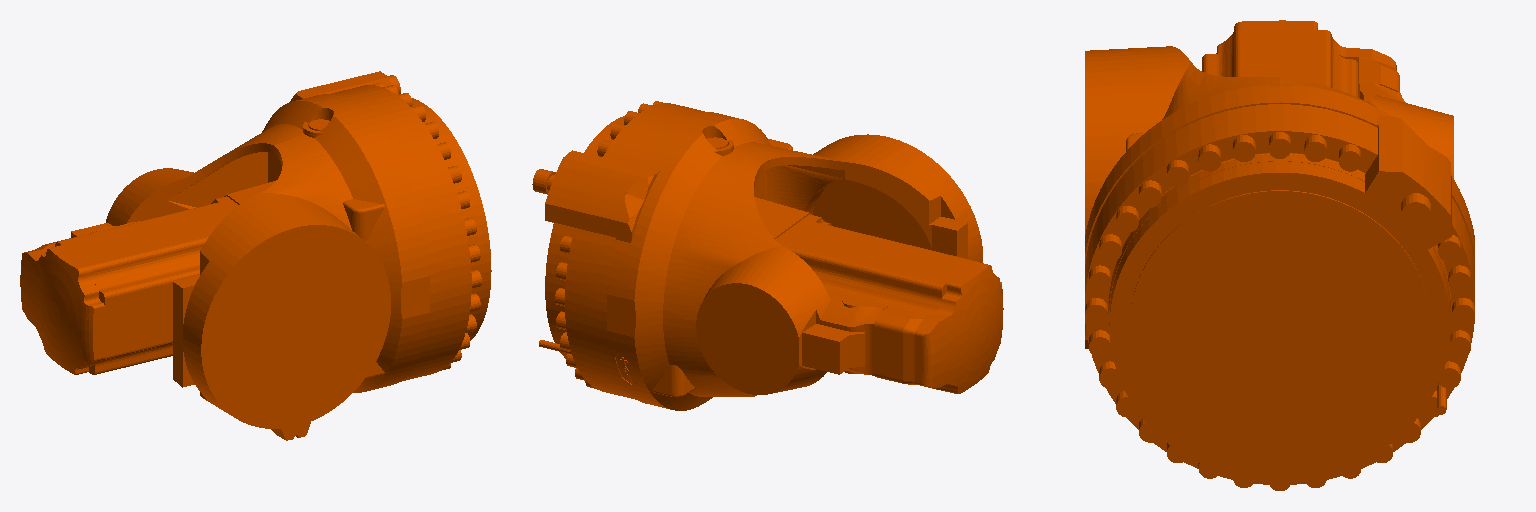
URDF robot description (IRB8700_550_420_SW6):
<?xml version="1.0" ?>
<robot name="IRB8700_550_420_SW6">

<link name="base_link">
  <inertial>
    <origin xyz="-0.08037184969585716 0.0006300808261457967 0.15332267644640482" rpy="0 0 0"/>
    <mass value="1505.6521038393914"/>
    <inertia ixx="76.523178" iyy="124.443069" izz="174.383681" ixy="0.159184" iyz="-0.066316" ixz="-5.164151"/>
  </inertial>
  <visual>
    <origin xyz="0 0 0" rpy="0 0 0"/>
    <geometry>
      <mesh filename="meshes/base_link.stl" scale="0.001 0.001 0.001"/>
    </geometry>
  </visual>
  <collision>
    <origin xyz="0 0 0" rpy="0 0 0"/>
    <geometry>
      <mesh filename="meshes/base_link.stl" scale="0.001 0.001 0.001"/>
    </geometry>
  </collision>
</link>

<link name="IRB8700_SW6_550_420_IRC5_rev00_LINK1_CAD_v1_1">
  <inertial>
    <origin xyz="0.30364505280838955 -0.0018357799370513142 0.5157165485900264" rpy="0 0 0"/>
    <mass value="1785.9186850506833"/>
    <inertia ixx="319.960777" iyy="204.24516" izz="276.794643" ixy="0.482677" iyz="6.821785" ixz="-58.562622"/>
  </inertial>
  <visual>
    <origin xyz="0.0 -0.0 -0.300337" rpy="0 0 0"/>
    <geometry>
      <mesh filename="meshes/IRB8700_SW6_550_420_IRC5_rev00_LINK1_CAD_v1_1.stl" scale="0.001 0.001 0.001"/>
    </geometry>
  </visual>
  <collision>
    <origin xyz="0.0 -0.0 -0.300337" rpy="0 0 0"/>
    <geometry>
      <mesh filename="meshes/IRB8700_SW6_550_420_IRC5_rev00_LINK1_CAD_v1_1.stl" scale="0.001 0.001 0.001"/>
    </geometry>
  </collision>
</link>

<link name="IRB8700_SW6_550_420_IRC5_rev00_LINK2_CAD_v1_1">
  <inertial>
    <origin xyz="0.1193738222891802 -0.1947103899770624 0.7303852208694914" rpy="0 0 0"/>
    <mass value="1443.4541146557397"/>
    <inertia ixx="283.515678" iyy="273.52004" izz="40.693426" ixy="0.50972" iyz="10.053071" ixz="15.357031"/>
  </inertial>
  <visual>
    <origin xyz="-0.42 -0.207 -1.0" rpy="0 0 0"/>
    <geometry>
      <mesh filename="meshes/IRB8700_SW6_550_420_IRC5_rev00_LINK2_CAD_v1_1.stl" scale="0.001 0.001 0.001"/>
    </geometry>
  </visual>
  <collision>
    <origin xyz="-0.42 -0.207 -1.0" rpy="0 0 0"/>
    <geometry>
      <mesh filename="meshes/IRB8700_SW6_550_420_IRC5_rev00_LINK2_CAD_v1_1.stl" scale="0.001 0.001 0.001"/>
    </geometry>
  </collision>
</link>

<link name="IRB8700_SW6_550_420_IRC5_rev00_LINK3_CAD_v1_1">
  <inertial>
    <origin xyz="-0.13074491407877226 -0.26408107026127936 0.23397324999694247" rpy="0 0 0"/>
    <mass value="867.5203145831158"/>
    <inertia ixx="45.096822" iyy="53.006314" izz="58.494954" ixy="1.118886" iyz="-6.435807" ixz="-1.22999"/>
  </inertial>
  <visual>
    <origin xyz="-0.42 -0.363 -2.58" rpy="0 0 0"/>
    <geometry>
      <mesh filename="meshes/IRB8700_SW6_550_420_IRC5_rev00_LINK3_CAD_v1_1.stl" scale="0.001 0.001 0.001"/>
    </geometry>
  </visual>
  <collision>
    <origin xyz="-0.42 -0.363 -2.58" rpy="0 0 0"/>
    <geometry>
      <mesh filename="meshes/IRB8700_SW6_550_420_IRC5_rev00_LINK3_CAD_v1_1.stl" scale="0.001 0.001 0.001"/>
    </geometry>
  </collision>
</link>

<link name="IRB8700_SW6_550_420_IRC5_rev00_LINK4_CAD_v1_1">
  <inertial>
    <origin xyz="1.0698119912815947 -0.02493925429433697 1.7061256211814424e-05" rpy="0 0 0"/>
    <mass value="1308.380613271277"/>
    <inertia ixx="36.649692" iyy="598.423459" izz="617.541576" ixy="22.117394" iyz="0.00502" ixz="-0.015097"/>
  </inertial>
  <visual>
    <origin xyz="-0.764558 0.0 -2.89" rpy="0 0 0"/>
    <geometry>
      <mesh filename="meshes/IRB8700_SW6_550_420_IRC5_rev00_LINK4_CAD_v1_1.stl" scale="0.001 0.001 0.001"/>
    </geometry>
  </visual>
  <collision>
    <origin xyz="-0.764558 0.0 -2.89" rpy="0 0 0"/>
    <geometry>
      <mesh filename="meshes/IRB8700_SW6_550_420_IRC5_rev00_LINK4_CAD_v1_1.stl" scale="0.001 0.001 0.001"/>
    </geometry>
  </collision>
</link>

<link name="IRB8700_SW6_550_420_IRC5_rev00_LINK5_CAD_v1_1">
  <inertial>
    <origin xyz="0.09285479111715667 -0.14771061757644657 0.00039505544227269596" rpy="0 0 0"/>
    <mass value="168.28947433118324"/>
    <inertia ixx="1.923851" iyy="3.241334" izz="3.578358" ixy="-0.062935" iyz="-0.018635" ixz="-0.021331"/>
  </inertial>
  <visual>
    <origin xyz="-2.595 -0.145 -2.89" rpy="0 0 0"/>
    <geometry>
      <mesh filename="meshes/IRB8700_SW6_550_420_IRC5_rev00_LINK5_CAD_v1_1.stl" scale="0.001 0.001 0.001"/>
    </geometry>
  </visual>
  <collision>
    <origin xyz="-2.595 -0.145 -2.89" rpy="0 0 0"/>
    <geometry>
      <mesh filename="meshes/IRB8700_SW6_550_420_IRC5_rev00_LINK5_CAD_v1_1.stl" scale="0.001 0.001 0.001"/>
    </geometry>
  </collision>
</link>

<link name="IRB8700_SW6_550_420_IRC5_rev00_LINK6_CAD_v1_1">
  <inertial>
    <origin xyz="0.12322477036900903 -0.012516747025421437 -0.007347434739773728" rpy="0 0 0"/>
    <mass value="58.82091127859069"/>
    <inertia ixx="0.712153" iyy="0.742128" izz="0.727838" ixy="0.003074" iyz="-0.007147" ixz="-0.005751"/>
  </inertial>
  <visual>
    <origin xyz="-2.8555 -0.0 -2.89" rpy="0 0 0"/>
    <geometry>
      <mesh filename="meshes/IRB8700_SW6_550_420_IRC5_rev00_LINK6_CAD_v1_1.stl" scale="0.001 0.001 0.001"/>
    </geometry>
  </visual>
  <collision>
    <origin xyz="-2.8555 -0.0 -2.89" rpy="0 0 0"/>
    <geometry>
      <mesh filename="meshes/IRB8700_SW6_550_420_IRC5_rev00_LINK6_CAD_v1_1.stl" scale="0.001 0.001 0.001"/>
    </geometry>
  </collision>
</link>

<joint name="j1" type="continuous">
  <origin xyz="0.0 0.0 0.300337" rpy="0 0 0"/>
  <parent link="base_link"/>
  <child link="IRB8700_SW6_550_420_IRC5_rev00_LINK1_CAD_v1_1"/>
  <axis xyz="0.0 -0.0 -1.0"/>
</joint>

<joint name="j2" type="continuous">
  <origin xyz="0.42 0.207 0.699663" rpy="0 0 0"/>
  <parent link="IRB8700_SW6_550_420_IRC5_rev00_LINK1_CAD_v1_1"/>
  <child link="IRB8700_SW6_550_420_IRC5_rev00_LINK2_CAD_v1_1"/>
  <axis xyz="0.0 1.0 0.0"/>
</joint>

<joint name="j3" type="continuous">
  <origin xyz="0.0 0.156 1.58" rpy="0 0 0"/>
  <parent link="IRB8700_SW6_550_420_IRC5_rev00_LINK2_CAD_v1_1"/>
  <child link="IRB8700_SW6_550_420_IRC5_rev00_LINK3_CAD_v1_1"/>
  <axis xyz="0.0 1.0 0.0"/>
</joint>

<joint name="j4" type="continuous">
  <origin xyz="0.344558 -0.363 0.31" rpy="0 0 0"/>
  <parent link="IRB8700_SW6_550_420_IRC5_rev00_LINK3_CAD_v1_1"/>
  <child link="IRB8700_SW6_550_420_IRC5_rev00_LINK4_CAD_v1_1"/>
  <axis xyz="1.0 0.0 0.0"/>
</joint>

<joint name="j5" type="continuous">
  <origin xyz="1.830442 0.145 0.0" rpy="0 0 0"/>
  <parent link="IRB8700_SW6_550_420_IRC5_rev00_LINK4_CAD_v1_1"/>
  <child link="IRB8700_SW6_550_420_IRC5_rev00_LINK5_CAD_v1_1"/>
  <axis xyz="0.0 -1.0 0.0"/>
</joint>

<joint name="j6" type="continuous">
  <origin xyz="0.2605 -0.145 0.0" rpy="0 0 0"/>
  <parent link="IRB8700_SW6_550_420_IRC5_rev00_LINK5_CAD_v1_1"/>
  <child link="IRB8700_SW6_550_420_IRC5_rev00_LINK6_CAD_v1_1"/>
  <axis xyz="1.0 0.0 0.0"/>
</joint>

</robot>

--- Facts derived from the render (not from the file) ---
The picture shows the robot from 3 angles, left to right: view 1: azimuth 30°, elevation 25°; view 2: azimuth 150°, elevation 25°; view 3: azimuth 270°, elevation 25°; orthographic projection.
Model IRB8700_550_420_SW6 with 7 links and 6 joints (6 continuous), rooted at base_link, posed all joints at 0.
Links seen in each view (by area): view 1: IRB8700_SW6_550_420_IRC5_rev00_LINK5_CAD_v1_1; view 2: IRB8700_SW6_550_420_IRC5_rev00_LINK5_CAD_v1_1; view 3: IRB8700_SW6_550_420_IRC5_rev00_LINK5_CAD_v1_1.
Boxes of the visible links, box(x1,y1,x2,y2) form: IRB8700_SW6_550_420_IRC5_rev00_LINK5_CAD_v1_1: box(20, 71, 491, 440); IRB8700_SW6_550_420_IRC5_rev00_LINK5_CAD_v1_1: box(532, 101, 1003, 410); IRB8700_SW6_550_420_IRC5_rev00_LINK5_CAD_v1_1: box(1085, 20, 1474, 490).
Bounding box of the posed robot: 0.4971 × 0.325 × 0.328 m (x, y, z).
1 mesh visuals loaded from 7 distinct referenced files (1 binary STL); not drawn: 6 (reference not matched to a file when rendering).